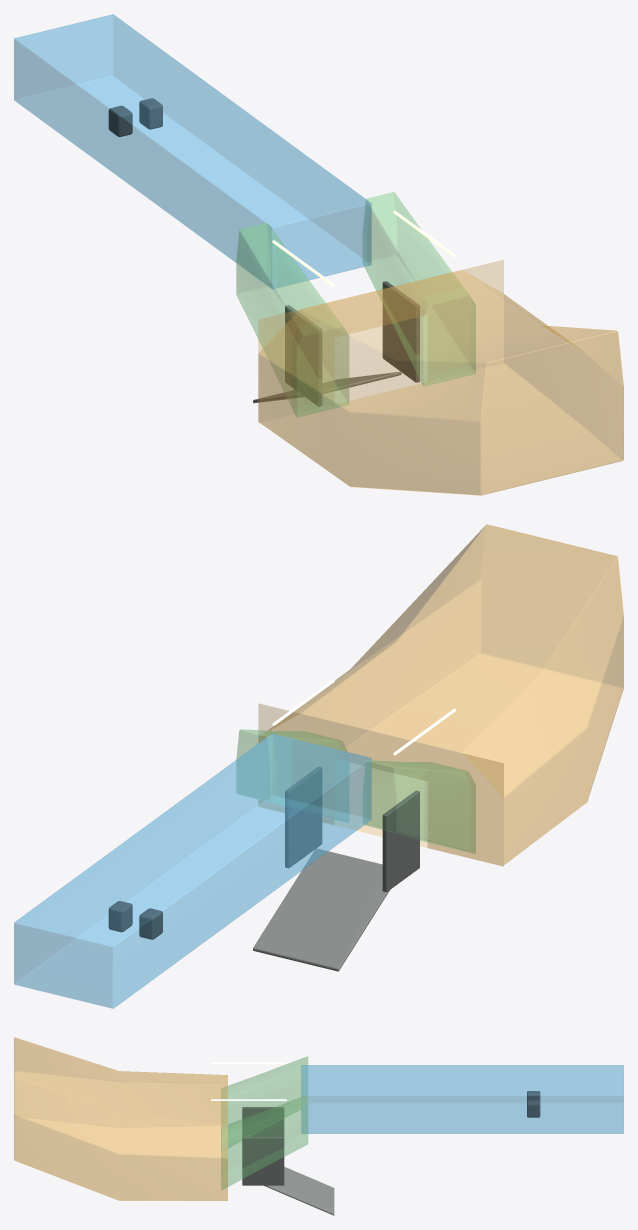
File: prototype_shuttle_interior.glb
The picture shows the model from 3 angles, top to bottom: view 1: azimuth 30°, elevation 25°; view 2: azimuth 150°, elevation 25°; view 3: azimuth 270°, elevation 25°; orthographic projection. The views are drawn at different scales.
Visible parts, largest first — view 1: VOLUME_LowerBellyCargoPrismaticEnvelope, VOLUME_RaisedForwardCockpitDeckEnvelope, VOLUME_LeftCargoToCockpitTransitionPrism, VOLUME_RightCargoToCockpitTransitionPrism, ForwardRampApertureRightFrame, ForwardRampApertureLeftFrame, VOLUME_ForwardBellyRampOpenPanel, PilotSeatScaleBlockout, CopilotSeatScaleBlockout; view 2: VOLUME_LowerBellyCargoPrismaticEnvelope, VOLUME_RaisedForwardCockpitDeckEnvelope, VOLUME_ForwardBellyRampOpenPanel, VOLUME_LeftCargoToCockpitTransitionPrism, VOLUME_RightCargoToCockpitTransitionPrism, ForwardRampApertureLeftFrame, ForwardRampApertureRightFrame, CopilotSeatScaleBlockout, PilotSeatScaleBlockout; view 3: VOLUME_LowerBellyCargoPrismaticEnvelope, VOLUME_RaisedForwardCockpitDeckEnvelope, VOLUME_RightCargoToCockpitTransitionPrism, VOLUME_LeftCargoToCockpitTransitionPrism, ForwardRampApertureRightFrame, VOLUME_ForwardBellyRampOpenPanel, ForwardRampApertureLeftFrame.
Boxes of the visible parts, left/top/right/bottom form: VOLUME_LowerBellyCargoPrismaticEnvelope: left=258, top=260, right=623, bottom=495; VOLUME_RaisedForwardCockpitDeckEnvelope: left=14, top=14, right=371, bottom=288; VOLUME_LeftCargoToCockpitTransitionPrism: left=236, top=223, right=348, bottom=417; VOLUME_RightCargoToCockpitTransitionPrism: left=363, top=192, right=475, bottom=386; ForwardRampApertureRightFrame: left=382, top=281, right=419, bottom=382; ForwardRampApertureLeftFrame: left=285, top=305, right=321, bottom=406; VOLUME_ForwardBellyRampOpenPanel: left=253, top=371, right=401, bottom=403; PilotSeatScaleBlockout: left=108, top=105, right=132, bottom=136; CopilotSeatScaleBlockout: left=139, top=98, right=162, bottom=129; VOLUME_LowerBellyCargoPrismaticEnvelope: left=258, top=524, right=623, bottom=866; VOLUME_RaisedForwardCockpitDeckEnvelope: left=14, top=733, right=371, bottom=1008; VOLUME_ForwardBellyRampOpenPanel: left=253, top=848, right=389, bottom=971; VOLUME_LeftCargoToCockpitTransitionPrism: left=363, top=760, right=475, bottom=853; VOLUME_RightCargoToCockpitTransitionPrism: left=236, top=729, right=348, bottom=822; ForwardRampApertureLeftFrame: left=382, top=790, right=419, bottom=892; ForwardRampApertureRightFrame: left=285, top=767, right=322, bottom=868; CopilotSeatScaleBlockout: left=108, top=901, right=132, bottom=932; PilotSeatScaleBlockout: left=139, top=908, right=162, bottom=939; VOLUME_LowerBellyCargoPrismaticEnvelope: left=14, top=1037, right=227, bottom=1200; VOLUME_RaisedForwardCockpitDeckEnvelope: left=301, top=1065, right=623, bottom=1133; VOLUME_RightCargoToCockpitTransitionPrism: left=221, top=1095, right=308, bottom=1190; VOLUME_LeftCargoToCockpitTransitionPrism: left=221, top=1056, right=308, bottom=1147; ForwardRampApertureRightFrame: left=242, top=1137, right=284, bottom=1185; VOLUME_ForwardBellyRampOpenPanel: left=264, top=1167, right=334, bottom=1215; ForwardRampApertureLeftFrame: left=242, top=1107, right=284, bottom=1136.
Size of the model in its own units: 8.86 by 8.05 by 30.52.
